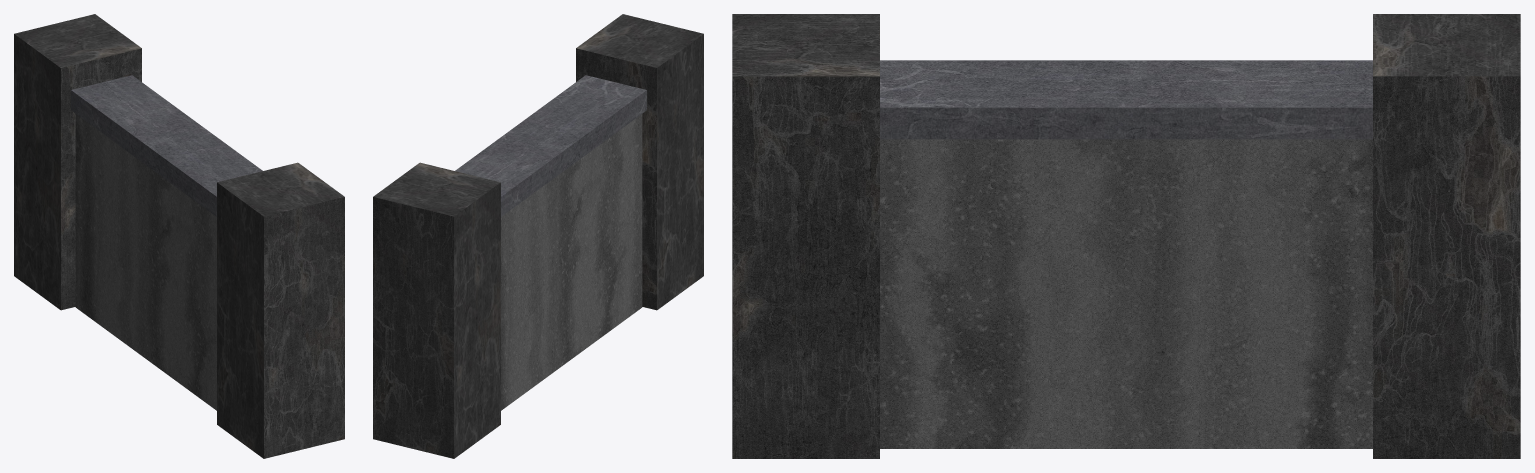
The picture shows the model from 3 angles, left to right: view 1: azimuth 30°, elevation 25°; view 2: azimuth 150°, elevation 25°; view 3: azimuth 270°, elevation 25°; orthographic projection. The views are drawn at different scales.
Parts seen in each view (by area): view 1: Muro_baixo14; view 2: Muro_baixo14; view 3: Muro_baixo14.
Part boxes in pixels (x1=…): Muro_baixo14: x1=14, y1=14, x2=344, y2=458; Muro_baixo14: x1=373, y1=14, x2=703, y2=458; Muro_baixo14: x1=732, y1=14, x2=1520, y2=458.
Size of the model in its own units: 1.2 by 3.44 by 6.4.
3 materials, 3 textured.
